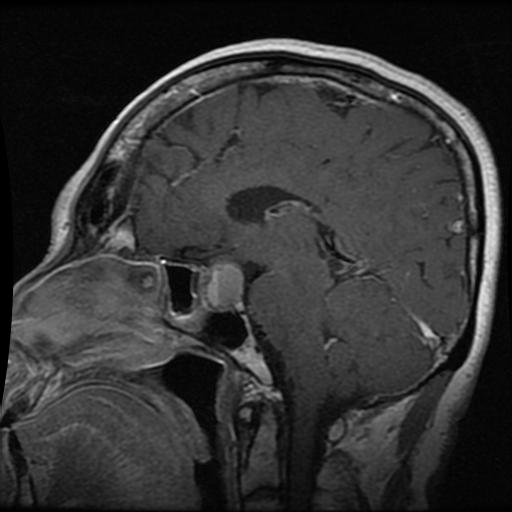Pituirity_tumour: (209, 264, 242, 305)
